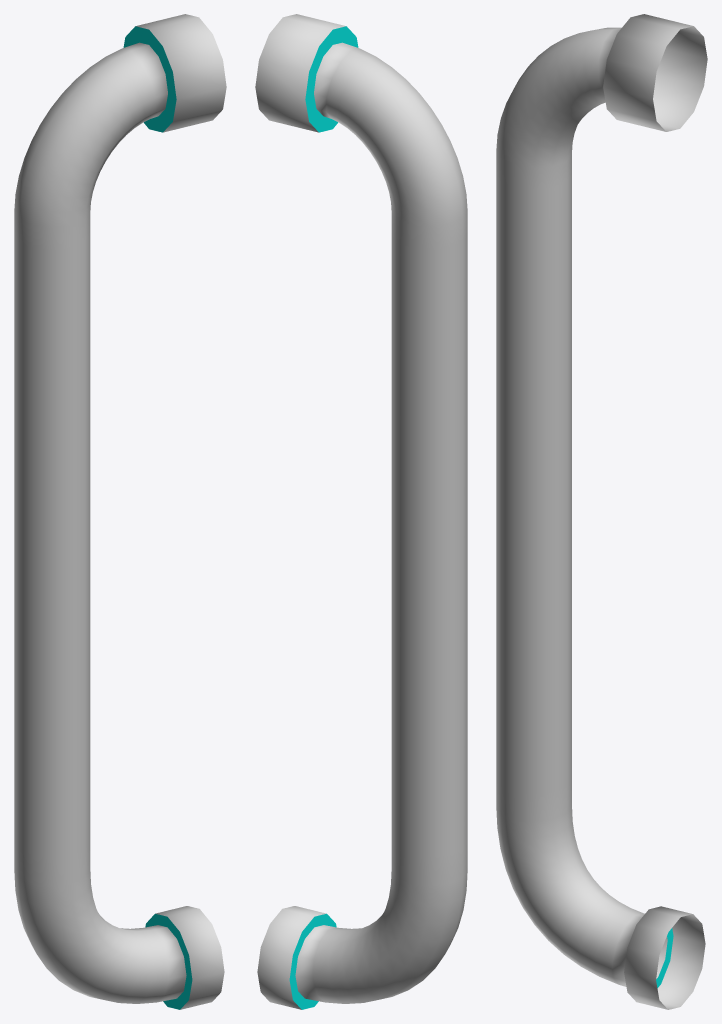
Rendered from BuildingP3.fbx.
The picture shows the model from 3 angles, left to right: view 1: azimuth 30°, elevation 25°; view 2: azimuth 150°, elevation 25°; view 3: azimuth 330°, elevation 25°; orthographic projection.
Parts seen in each view (by area): view 1: P3; view 2: P3; view 3: P3.
Part boxes in pixels (left/top/right/bottom): P3: left=14, top=14, right=226, bottom=1009; P3: left=255, top=14, right=467, bottom=1009; P3: left=496, top=14, right=707, bottom=1009.
Size of the model in its own units: 246 by 1282 by 130.
